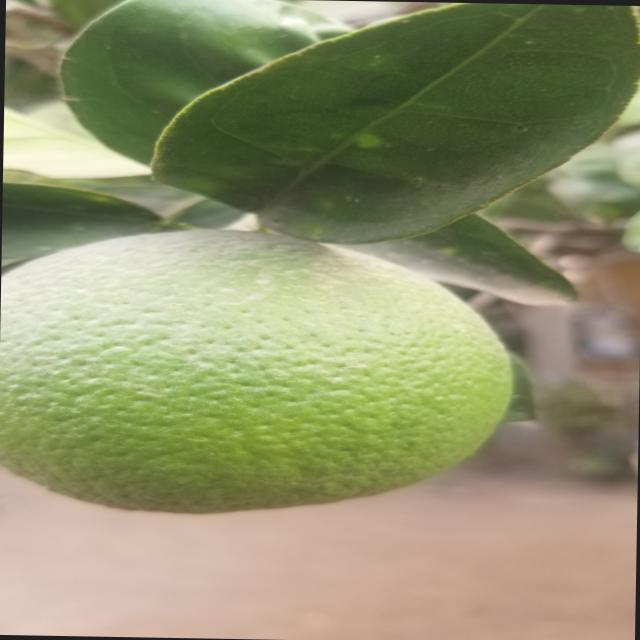Unripe: (0, 229, 514, 520)
